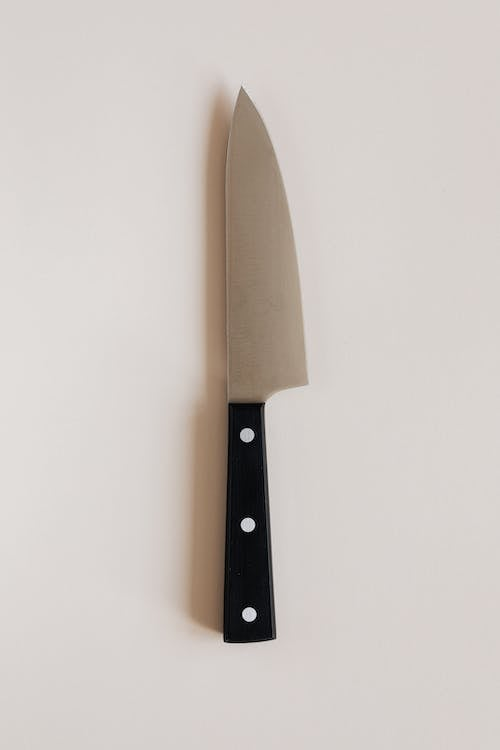knife: (219, 81, 315, 647)
